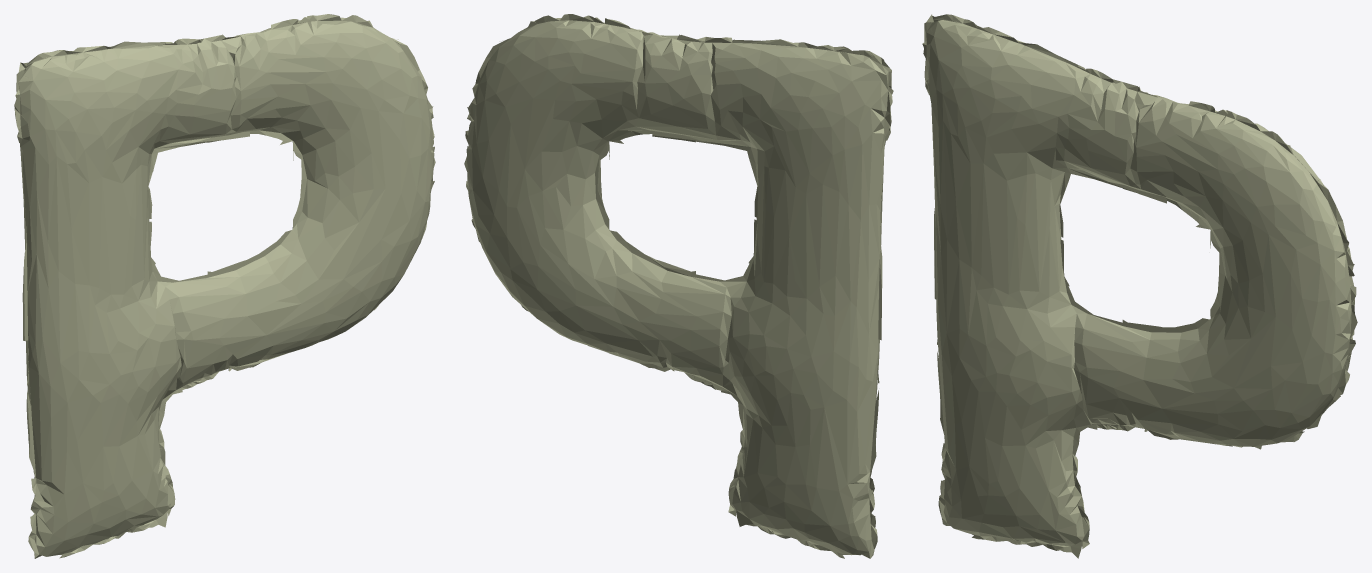
The model's file is tinker.obj.
3 renders of one model, left to right at view 1: azimuth 30°, elevation 25°; view 2: azimuth 150°, elevation 25°; view 3: azimuth 330°, elevation 25°, orthographic.
Visible parts, largest first — view 1: obj_0; view 2: obj_0; view 3: obj_0.
Boxes of the visible parts, bbox=[...] form: obj_0: bbox=[14, 14, 435, 558]; obj_0: bbox=[464, 14, 893, 558]; obj_0: bbox=[922, 14, 1357, 558].
Size of the model in its own units: 12.45 by 14.31 by 1.83.
